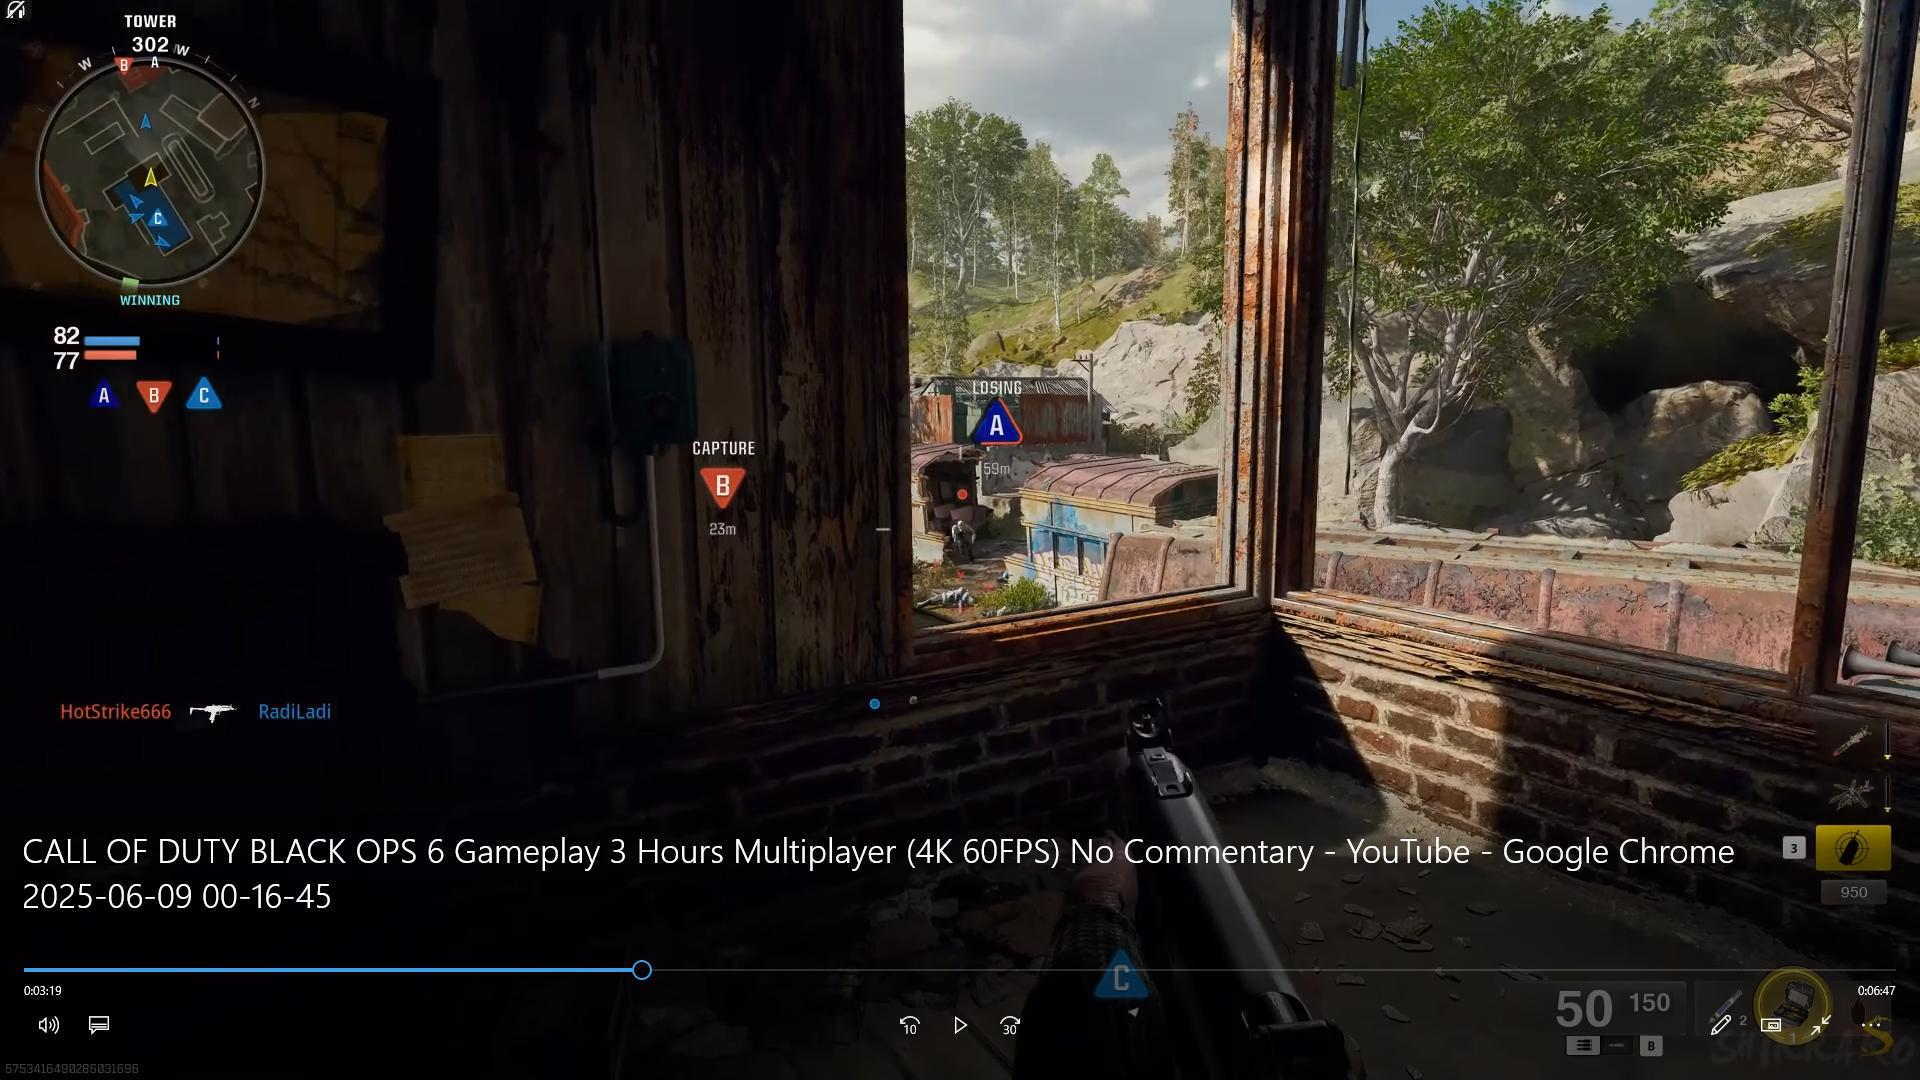Enemy: (947, 516, 978, 560)
